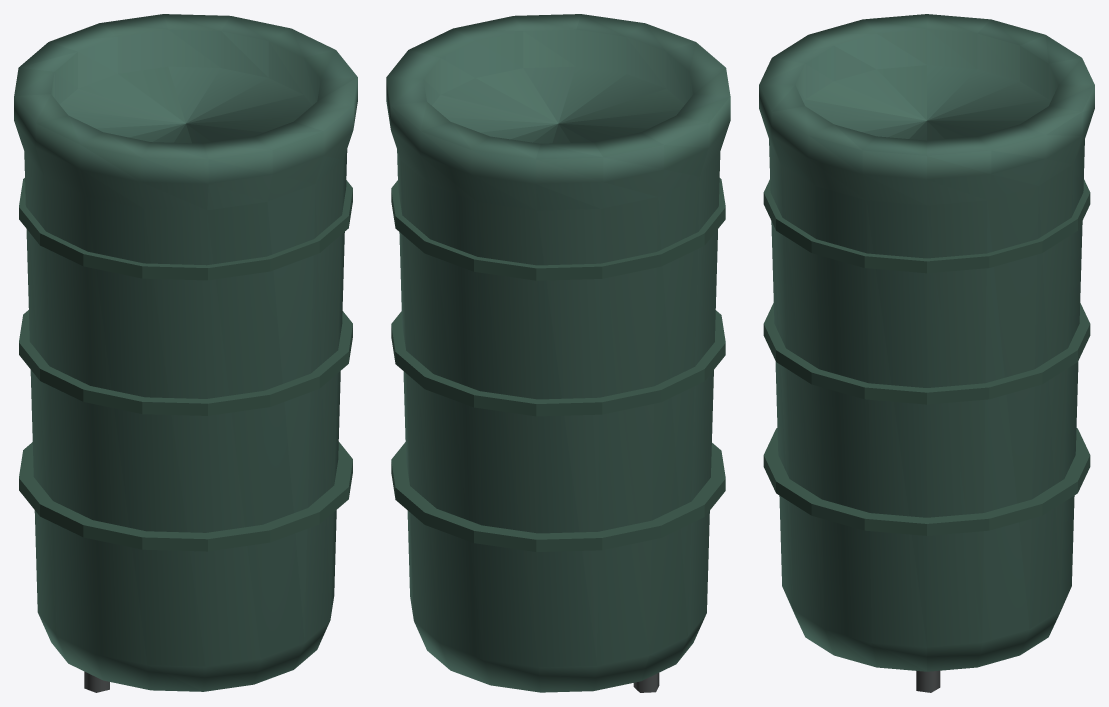
The model's file is town_bin_a.glb.
3 renders of one model, left to right at view 1: azimuth 30°, elevation 25°; view 2: azimuth 150°, elevation 25°; view 3: azimuth 270°, elevation 25°, orthographic. The views are drawn at different scales.
Parts seen in each view (by area): view 1: body; view 2: body; view 3: body.
Boxes of the visible parts, <box> form: body: <box>14,14,357,692</box>; body: <box>386,14,730,692</box>; body: <box>759,14,1094,692</box>.
Size of what is drawn, in the model's own units: 0.51 by 0.94 by 0.51.
